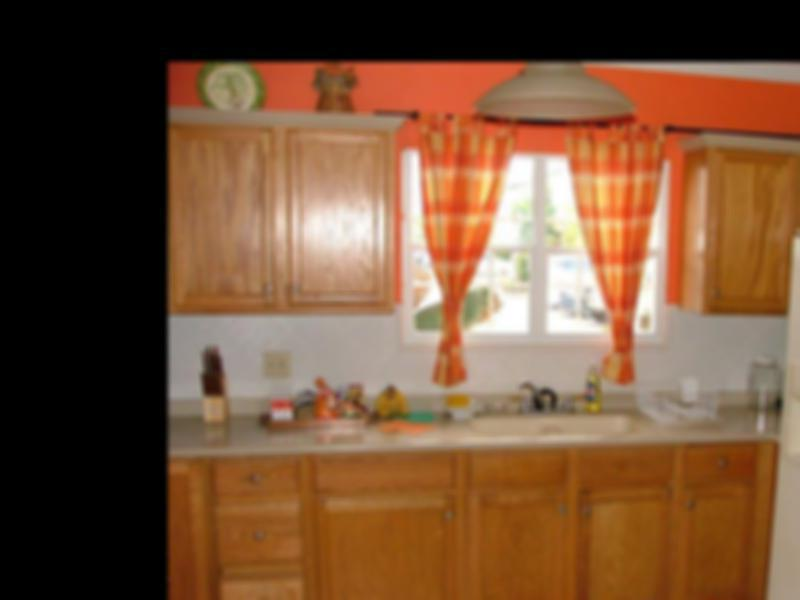Electrodomestico: (788, 216, 800, 600)
Lavaplatos: (473, 367, 652, 457)
